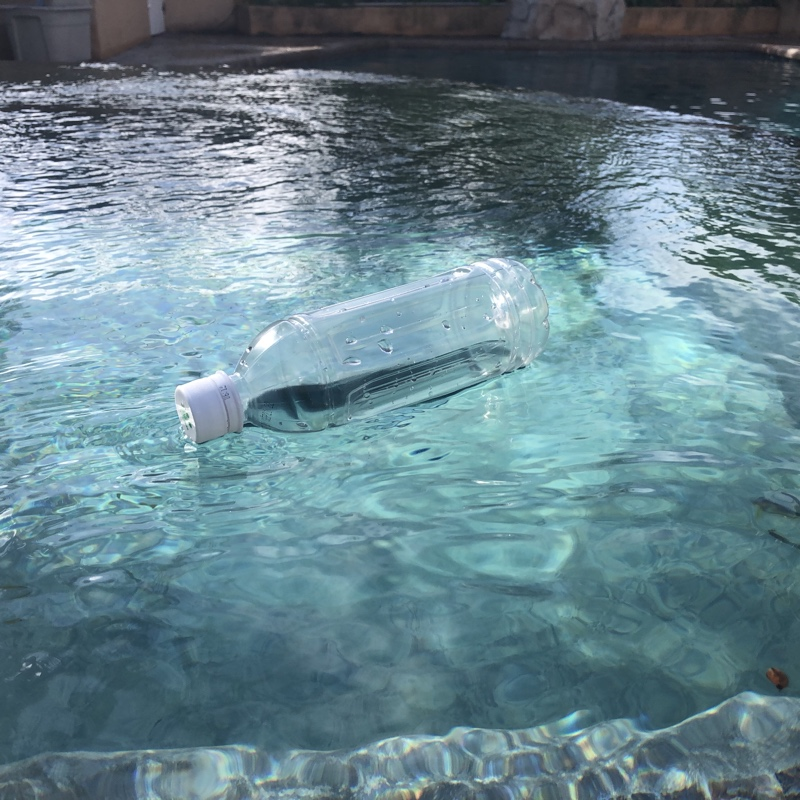Plastic Bottle: (170, 252, 553, 450)
